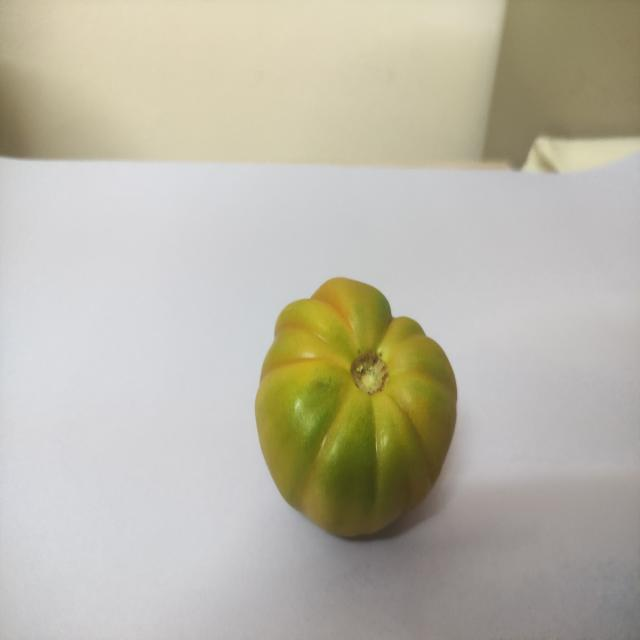yesil: (256, 254, 464, 540)
